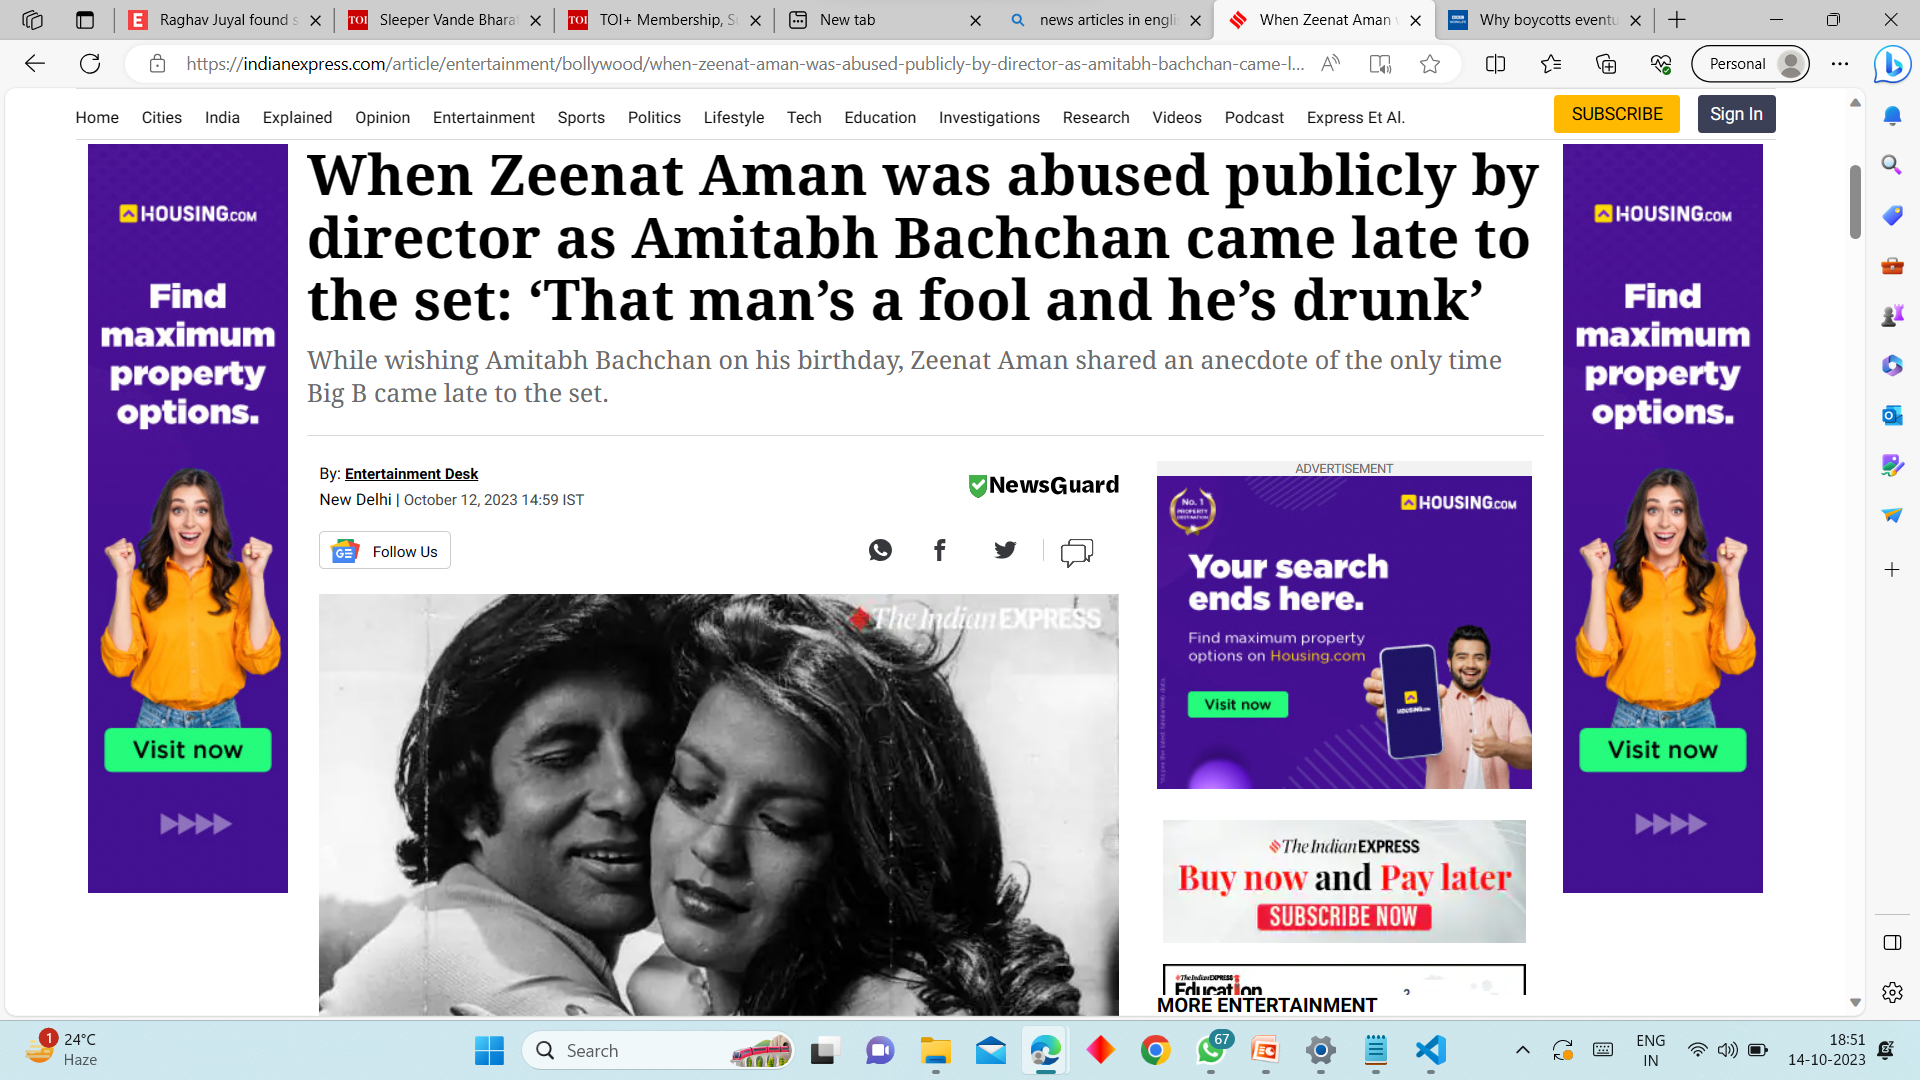Image: (319, 592, 1118, 1018), (1559, 136, 1764, 887), (87, 152, 293, 887), (1154, 476, 1530, 790), (1170, 812, 1532, 945), (1164, 968, 1532, 1006), (331, 525, 454, 584), (1553, 94, 1675, 135), (975, 533, 1035, 576), (1700, 99, 1768, 129), (1054, 541, 1106, 572), (864, 537, 901, 575), (922, 541, 948, 572)
Paragraph: (319, 144, 1530, 324), (309, 342, 1510, 405), (313, 459, 611, 521), (964, 456, 1125, 521), (1295, 92, 1414, 145), (422, 87, 539, 132), (247, 90, 347, 136), (932, 103, 1054, 138), (546, 83, 608, 136), (349, 90, 430, 129), (61, 90, 128, 136), (1228, 90, 1295, 136), (1067, 87, 1134, 132), (839, 100, 923, 136), (702, 94, 775, 129), (1147, 94, 1208, 136), (630, 92, 687, 135), (775, 92, 825, 132), (141, 100, 196, 136), (202, 87, 241, 121)
